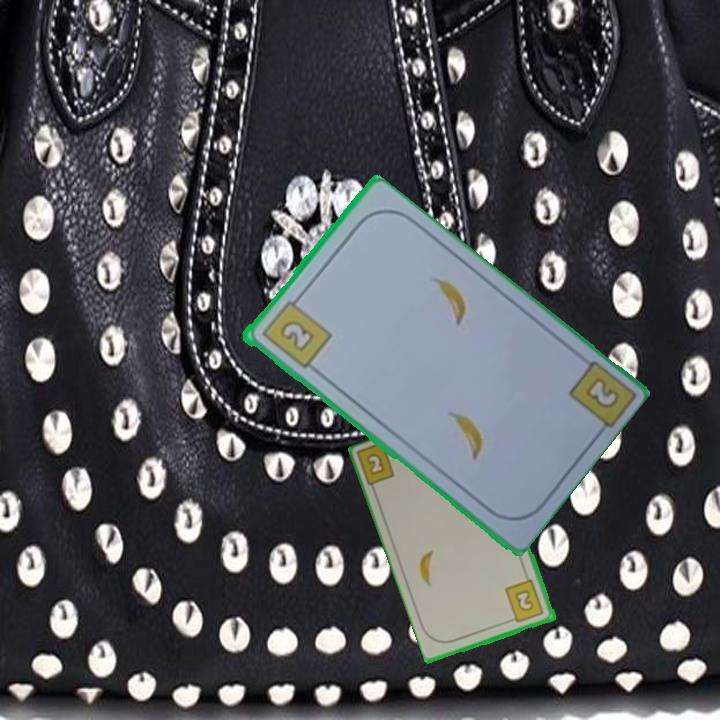2b: (257, 291, 334, 372), (502, 576, 547, 626), (585, 377, 619, 409), (363, 450, 388, 478)
